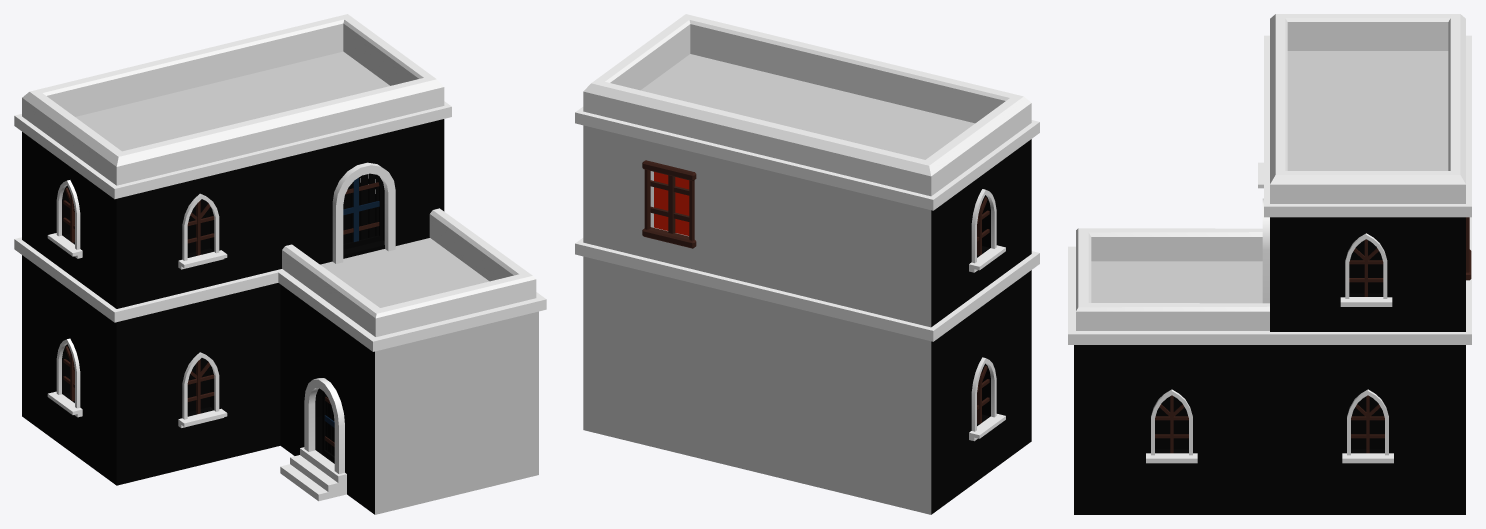
File: civilian_house_33_h.FBX
3 renders of one model, left to right at view 1: azimuth 30°, elevation 25°; view 2: azimuth 150°, elevation 25°; view 3: azimuth 270°, elevation 25°, orthographic. The views are drawn at different scales.
Parts seen in each view (by area): view 1: civilian_house_33_h; view 2: civilian_house_33_h; view 3: civilian_house_33_h.
Part boxes in pixels (x1=…): civilian_house_33_h: x1=14, y1=14, x2=546, y2=514; civilian_house_33_h: x1=575, y1=14, x2=1039, y2=514; civilian_house_33_h: x1=1068, y1=14, x2=1471, y2=514.
Bounding box in the file's own units: 1061 × 950 × 1030.
